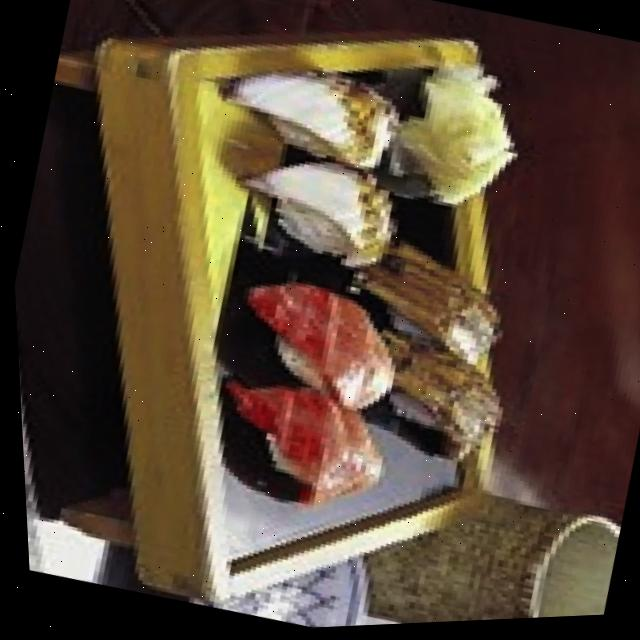寿司卷物: (94, 0, 606, 565)
